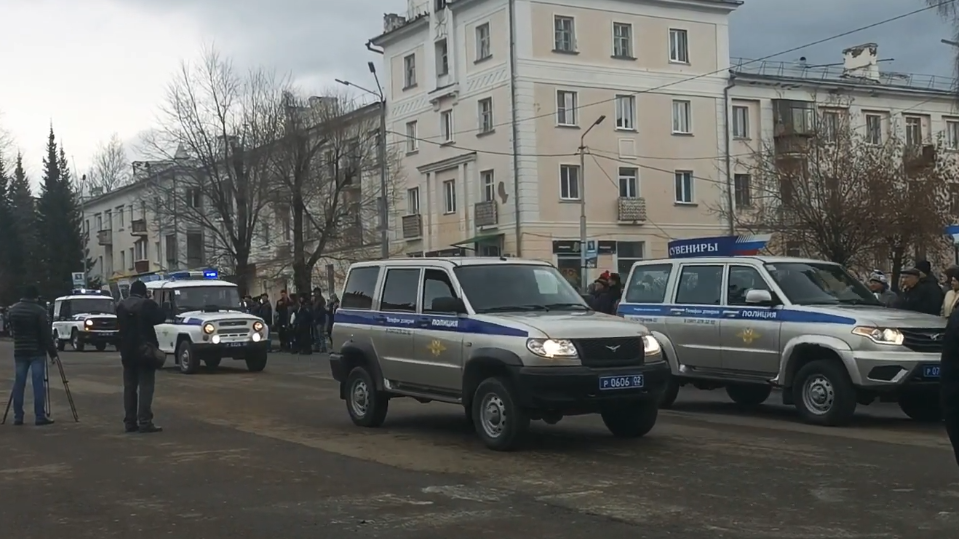police car: (330, 256, 672, 456), (617, 256, 945, 422), (143, 266, 265, 376), (50, 287, 121, 354)
